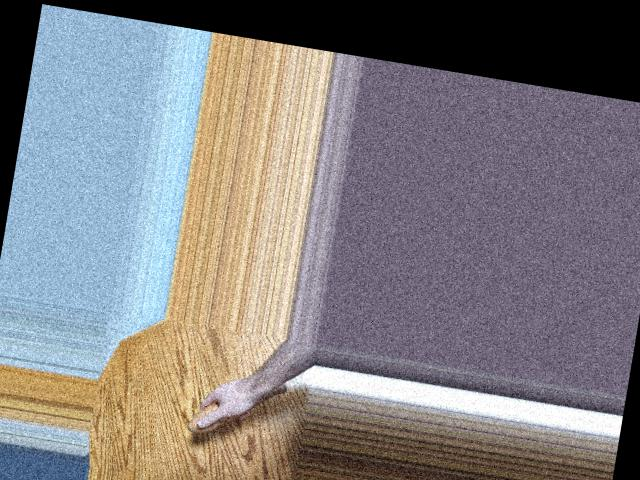sweet_potato: (185, 370, 289, 448)
